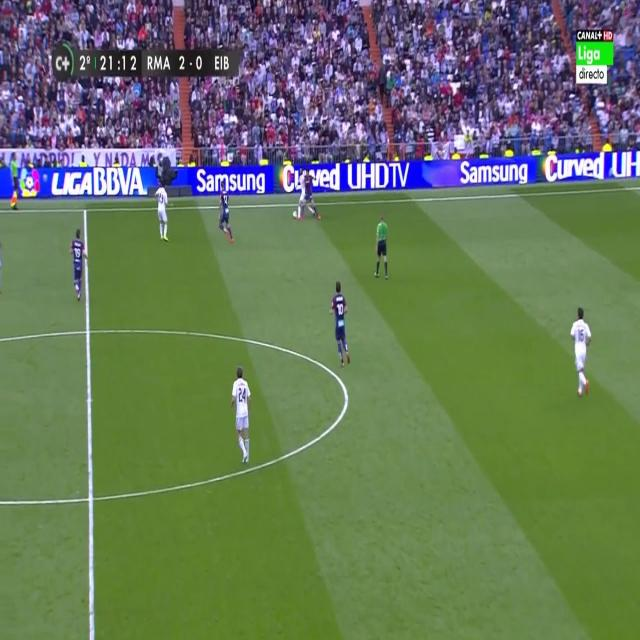Ball: (292, 207, 298, 222)
Player: (228, 364, 254, 467), (568, 303, 593, 400), (69, 227, 87, 306), (153, 181, 171, 244), (218, 181, 235, 246), (302, 168, 320, 226)
Referee: (373, 215, 393, 286), (8, 153, 23, 215)
